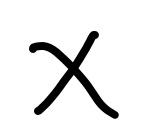mult: (29, 30, 119, 119)
